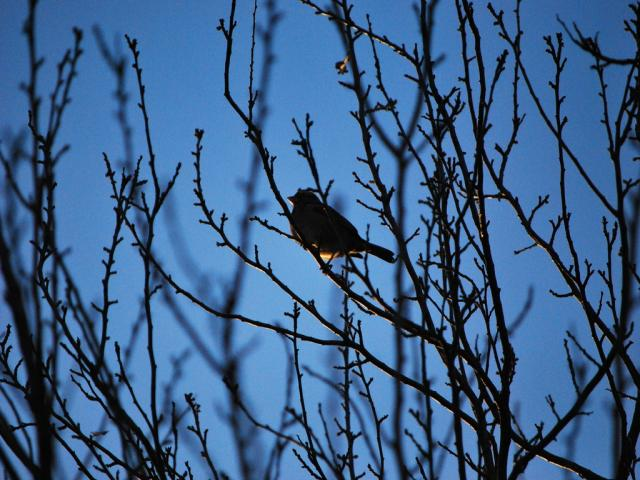Bird: (288, 184, 398, 276)
